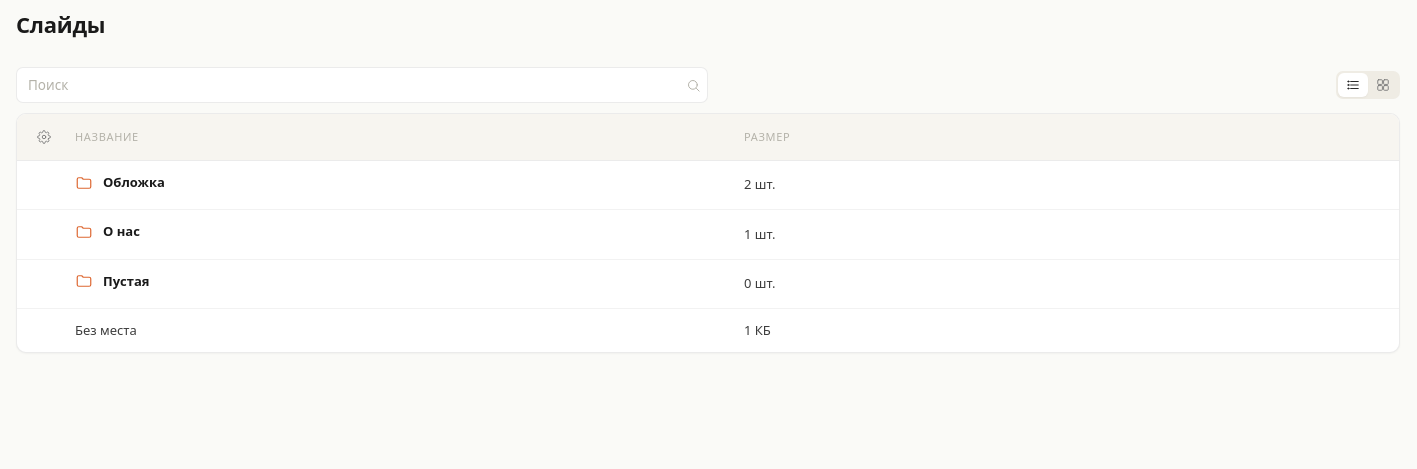
Test case: ListPage с папками › пустая папка так и говорит
Click the button "Пустая".
click(126, 281)  # box [103,272,150,291]
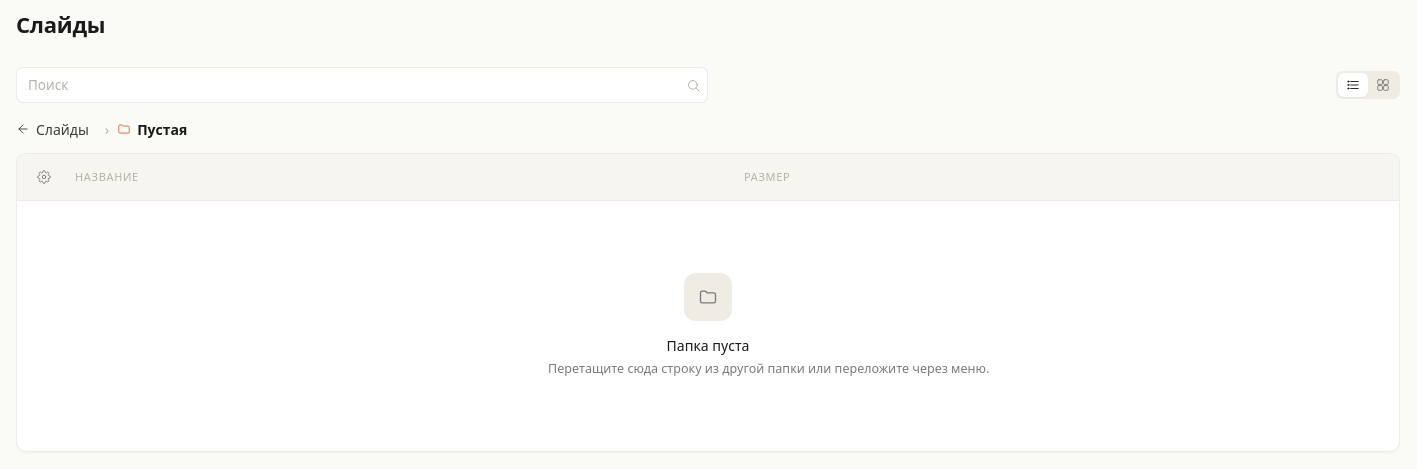
Expected: the text "Папка пуста" is shown, [667,335,749,356]
